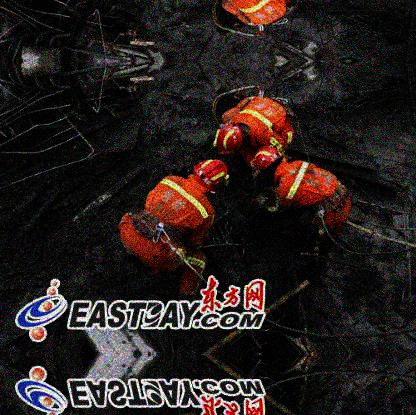helmet: (216, 120, 249, 155), (254, 145, 289, 176)
